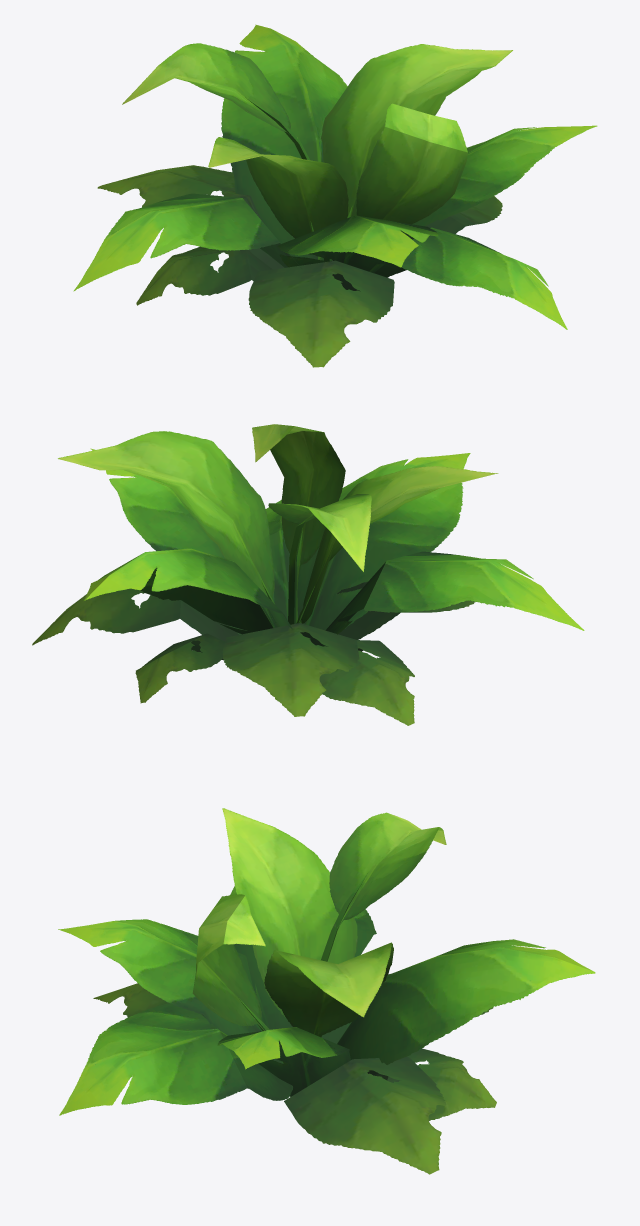
File: ZhuCheng_Cao_01.fbx
3 renders of one model, top to bottom at view 1: azimuth 30°, elevation 25°; view 2: azimuth 150°, elevation 25°; view 3: azimuth 270°, elevation 25°, orthographic.
Parts seen in each view (by area): view 1: ZhuCheng_Cao_01; view 2: ZhuCheng_Cao_01; view 3: ZhuCheng_Cao_01.
Part boxes in pixels (box(x1,y1,x2,y2)): ZhuCheng_Cao_01: box(73, 24, 597, 367); ZhuCheng_Cao_01: box(32, 424, 584, 725); ZhuCheng_Cao_01: box(58, 808, 595, 1174).
Size of the model in its own units: 1.48 by 0.7535 by 1.41.
